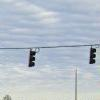traffic lights: (29, 50, 36, 67), (90, 49, 97, 65)
